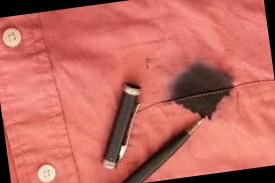ink: (174, 68, 234, 115)
